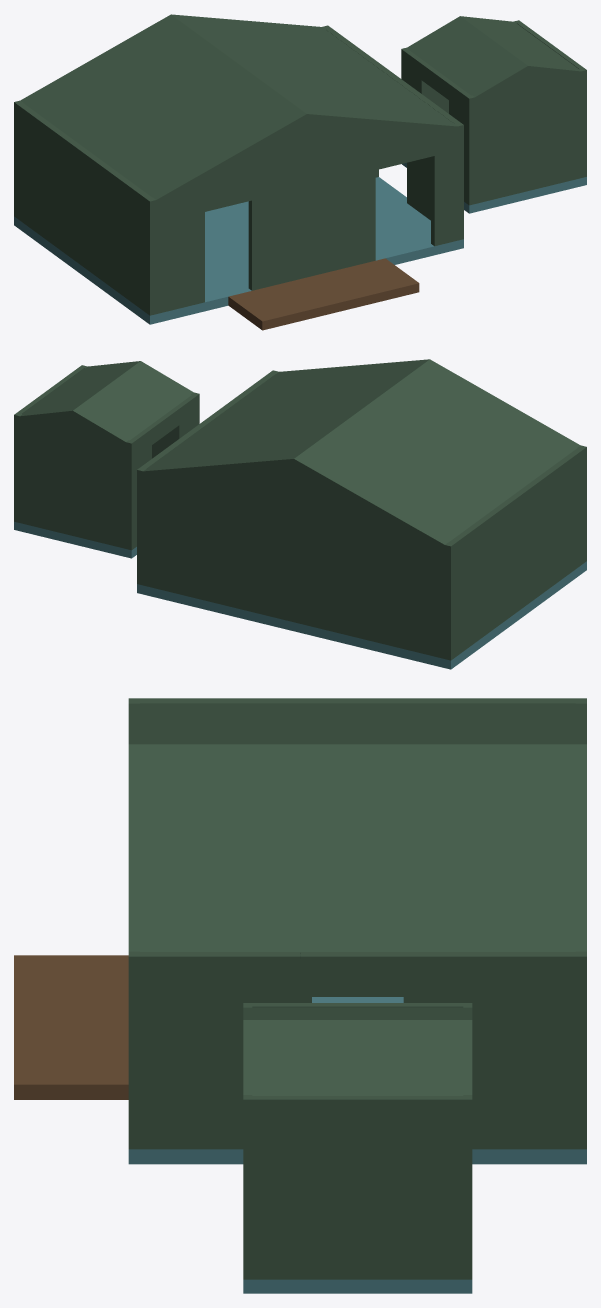
The model's file is BLK-002_RANGER_OUTPOST_PLAYABLE_BLOCKOUT.fbx.
3 renders of one model, top to bottom at view 1: azimuth 30°, elevation 25°; view 2: azimuth 150°, elevation 25°; view 3: azimuth 270°, elevation 25°, orthographic. The views are drawn at different scales.
Parts seen in each view (by area): view 1: RO_DOORWALL_PLAYABLE_OVERRIDES_1P20x2P20, BLK002_Roofs, BLK002_WalkableFloors; view 2: RO_DOORWALL_PLAYABLE_OVERRIDES_1P20x2P20, BLK002_Roofs, BLK002_WalkableFloors; view 3: BLK002_Roofs, RO_DOORWALL_PLAYABLE_OVERRIDES_1P20x2P20, BLK002_WalkableFloors.
Part boxes in pixels (x1,y1,x2,y2): RO_DOORWALL_PLAYABLE_OVERRIDES_1P20x2P20: [14, 20, 586, 315]; BLK002_Roofs: [20, 14, 584, 203]; BLK002_WalkableFloors: [14, 162, 586, 330]; RO_DOORWALL_PLAYABLE_OVERRIDES_1P20x2P20: [14, 365, 586, 660]; BLK002_Roofs: [15, 359, 580, 547]; BLK002_WalkableFloors: [14, 521, 586, 669]; BLK002_Roofs: [128, 703, 586, 1095]; RO_DOORWALL_PLAYABLE_OVERRIDES_1P20x2P20: [128, 698, 586, 1279]; BLK002_WalkableFloors: [14, 955, 586, 1293].
Size of the model in its own units: 12 by 4.2 by 7.5.
